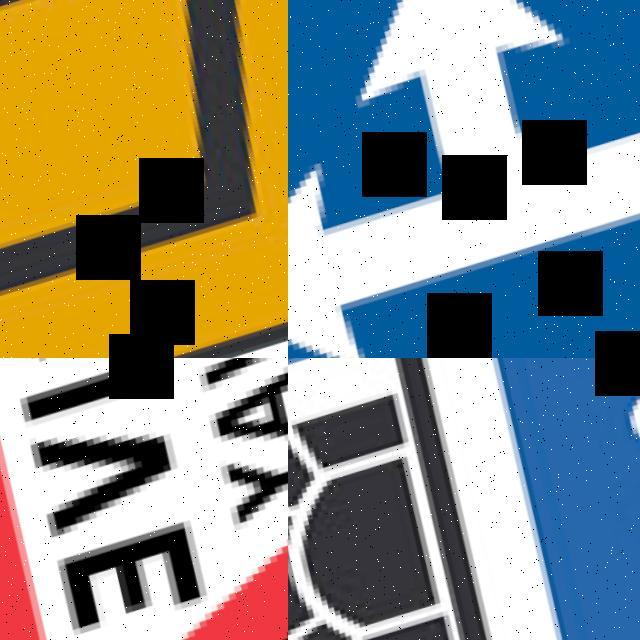84: (0, 0, 288, 358)
Turn left or straight ahead: (288, 0, 640, 358)
tunnel in 2 km: (288, 358, 640, 640)
